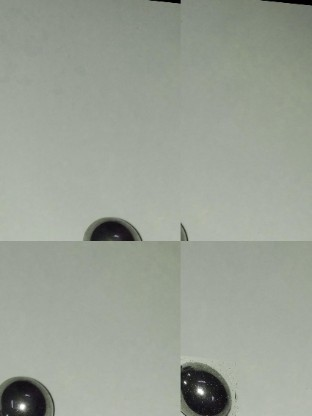ironball: (180, 353, 236, 415), (0, 371, 59, 416), (76, 213, 145, 241)
